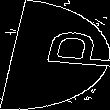P_W: (6, 33, 104, 77)
